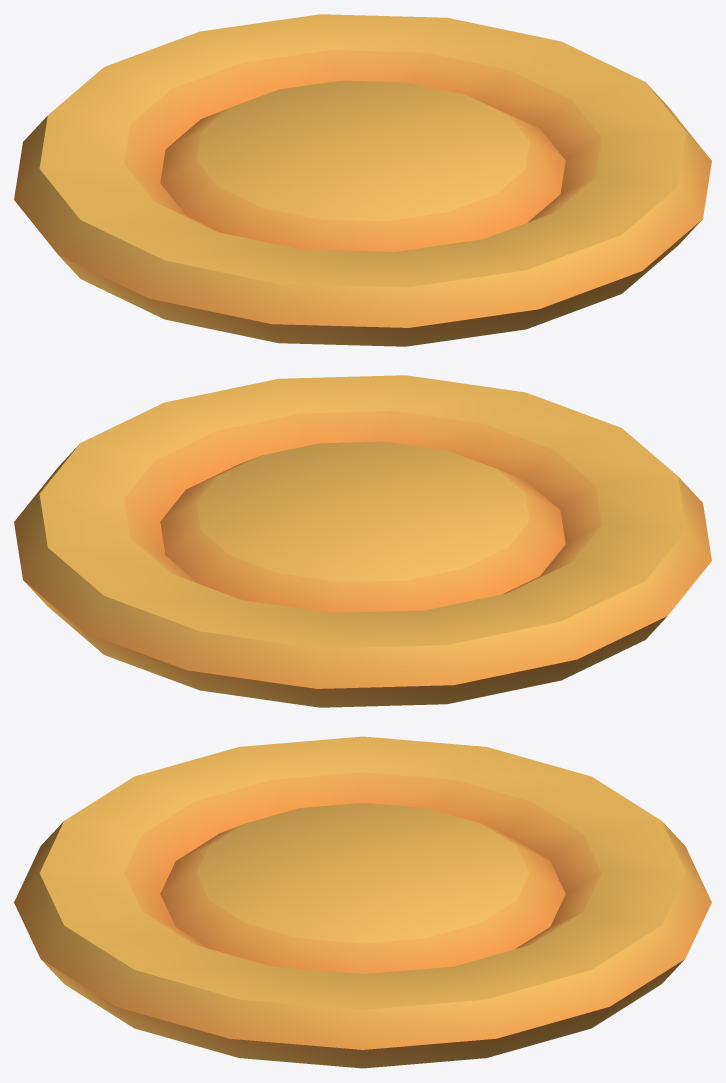
File: token-yellow.glb
3 views of the same model, one above another, from view 1: azimuth 30°, elevation 25°; view 2: azimuth 150°, elevation 25°; view 3: azimuth 270°, elevation 25° (orthographic).
Visible parts, largest first — view 1: token_yellow; view 2: token_yellow; view 3: token_yellow.
Part boxes in pixels (x1,y1,x2,y2): token_yellow: (14,14,711,346); token_yellow: (14,375,711,707); token_yellow: (14,736,711,1068).
Bounding box in the file's own units: 1.08 × 0.1 × 1.08.
1 material, 1 textured.
